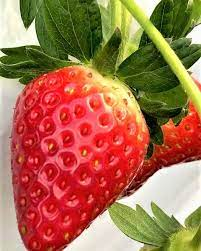ripe: (6, 52, 154, 250)
